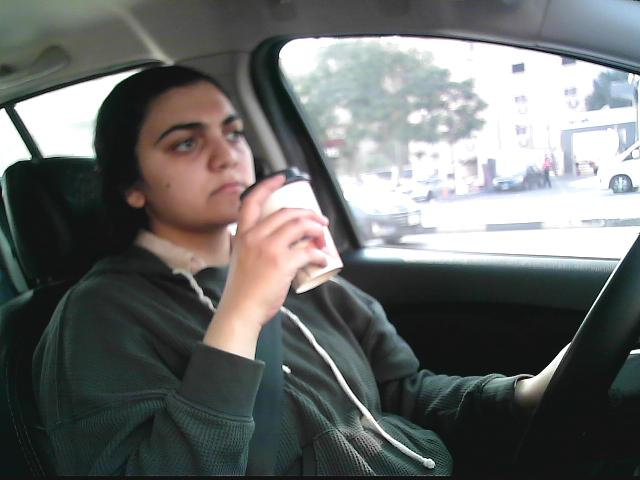Drinking: (242, 168, 347, 300)
